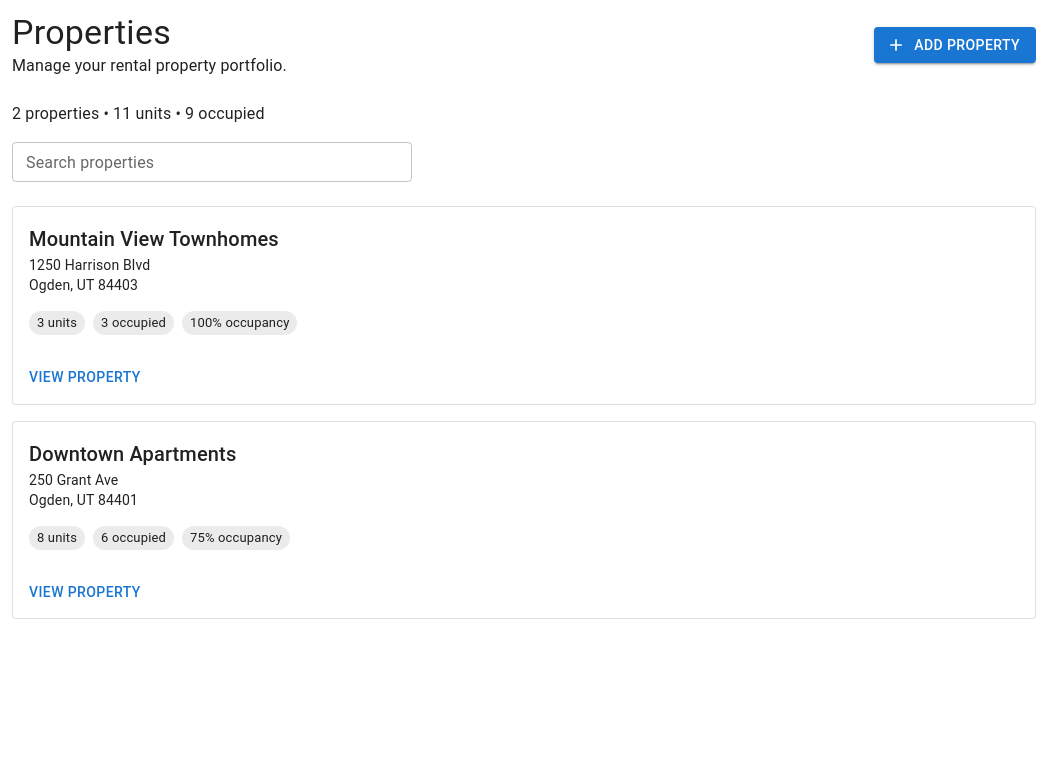
it: PropertiesPage › displays an empty state when no properties match
Type "does-not-exist" into the field labelled "Search properties". click: (212, 162)
box: [12,142,412,182]
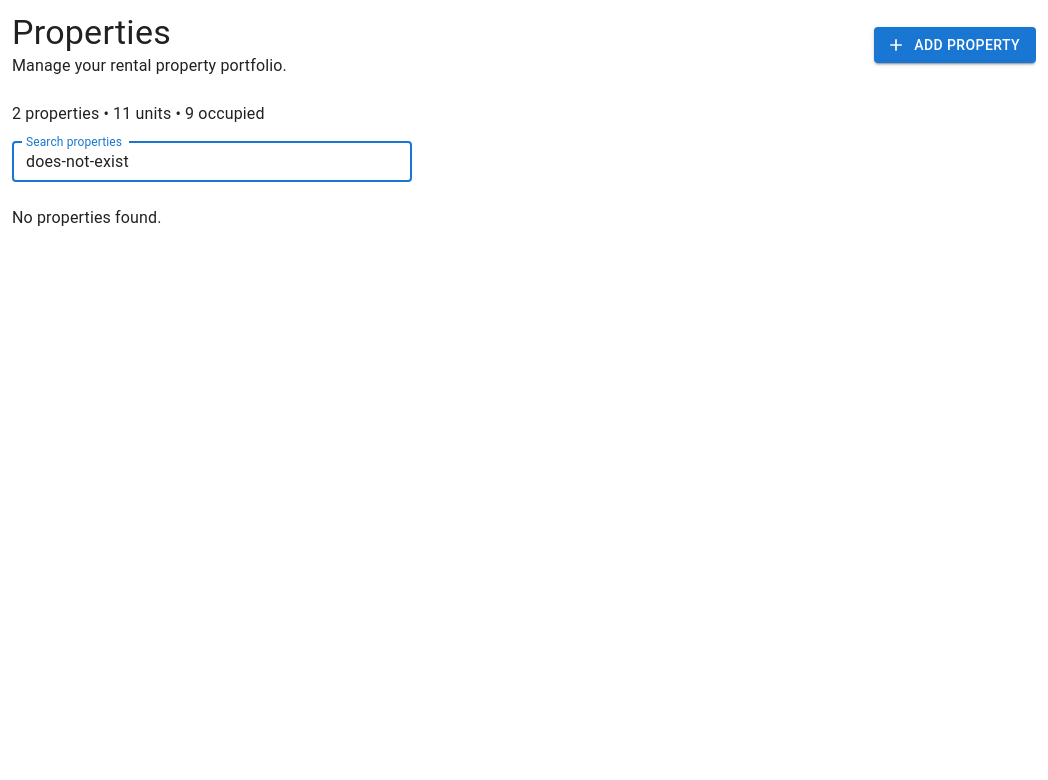
Expected: the text "No properties found." is shown, [12,208,162,227]
